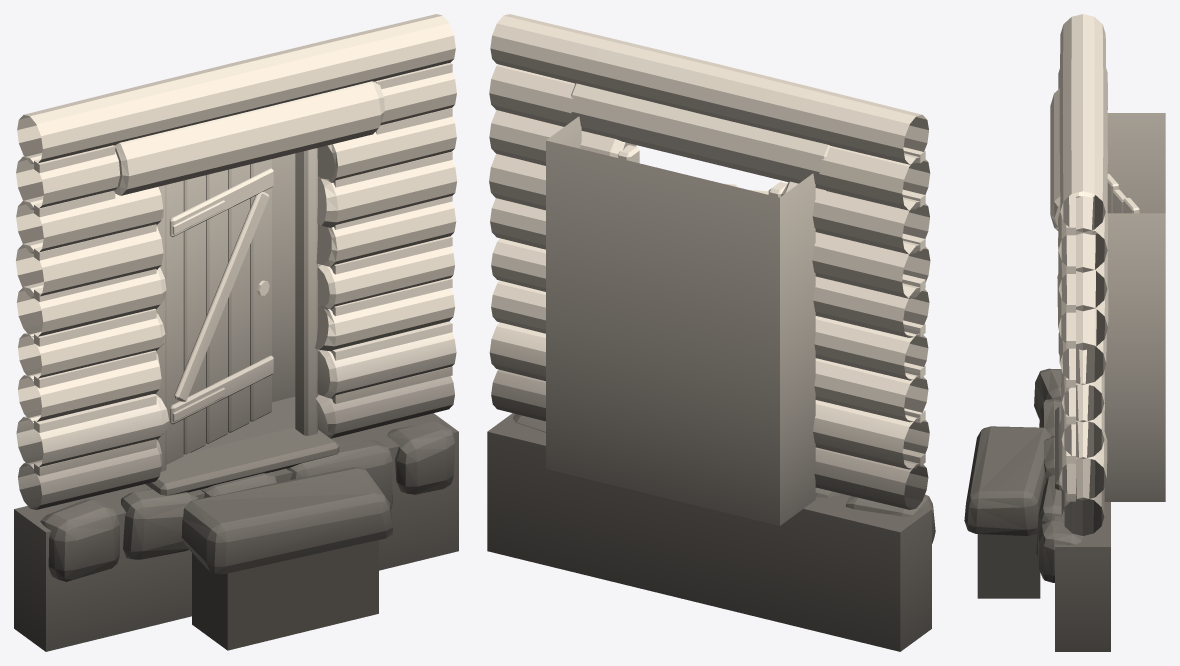
Rendered from SM_VK_Wall_Log_Door.fbx.
The picture shows the model from 3 angles, left to right: view 1: azimuth 30°, elevation 25°; view 2: azimuth 150°, elevation 25°; view 3: azimuth 270°, elevation 25°; orthographic projection. The views are drawn at different scales.
Visible parts, largest first — view 1: SM_VK_Wall_Log_Door.001; view 2: SM_VK_Wall_Log_Door.001; view 3: SM_VK_Wall_Log_Door.001.
Part boxes in pixels (x1,y1,x2,y2): SM_VK_Wall_Log_Door.001: [14, 14, 458, 651]; SM_VK_Wall_Log_Door.001: [487, 14, 935, 651]; SM_VK_Wall_Log_Door.001: [964, 14, 1165, 651].
Size of the model in its own units: 3 by 3.64 by 1.44.
